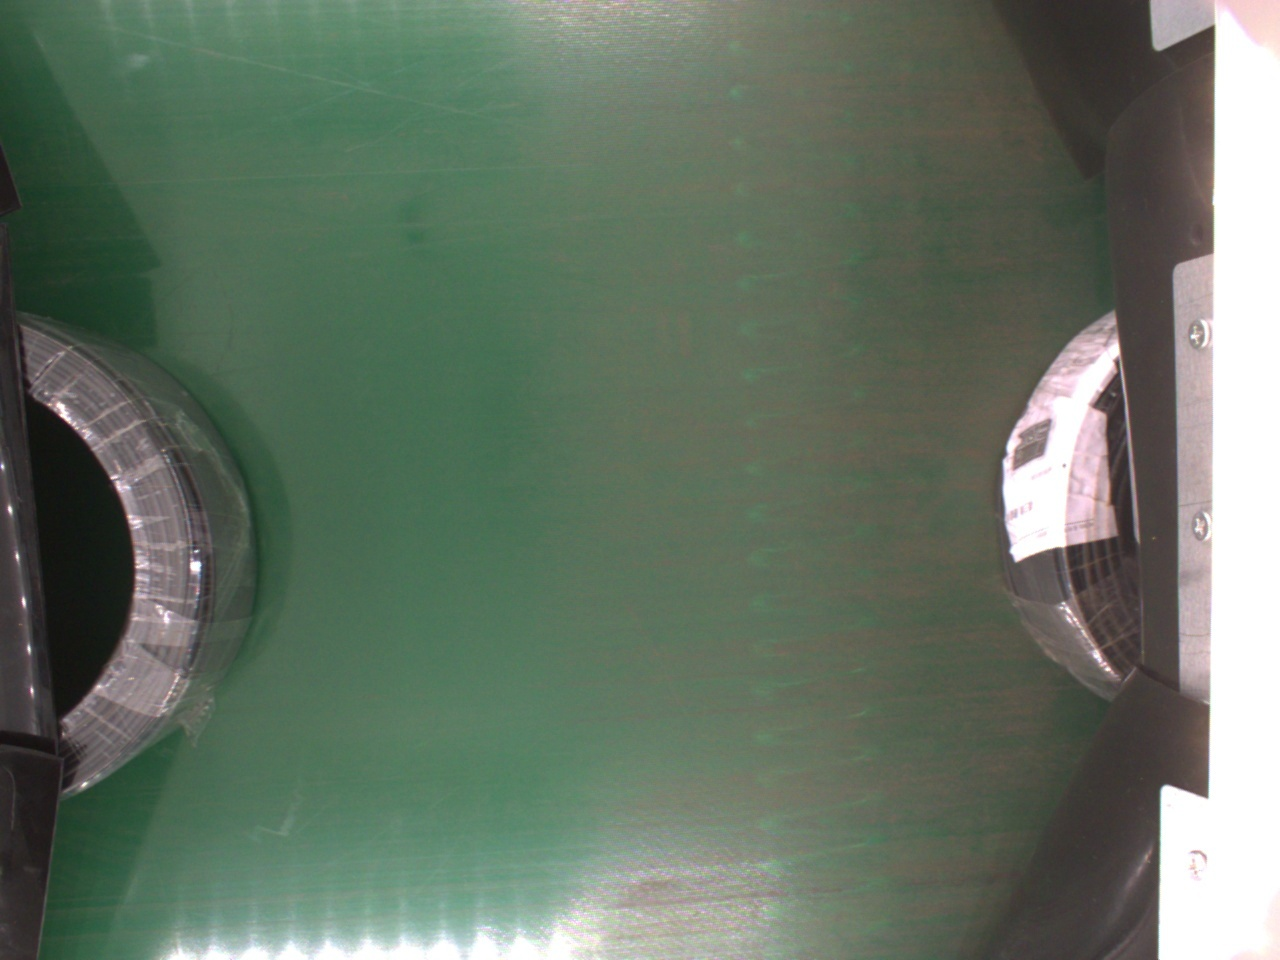black: (23, 305, 251, 790), (1001, 308, 1157, 705)
